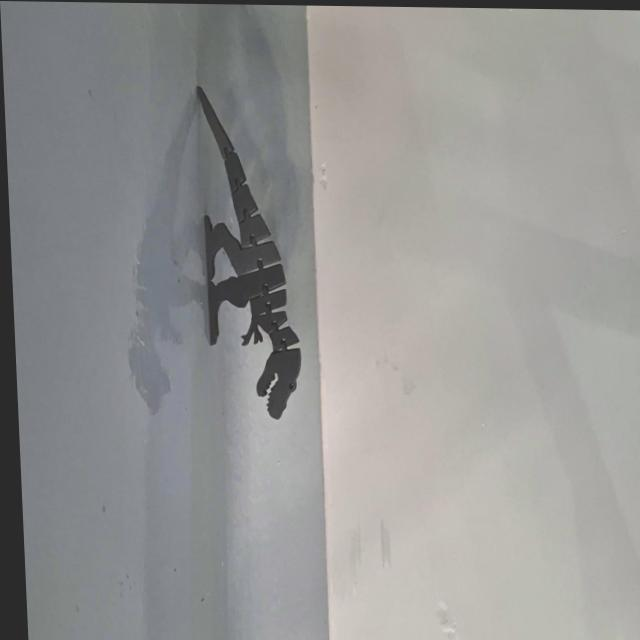dino: (195, 83, 305, 421)
